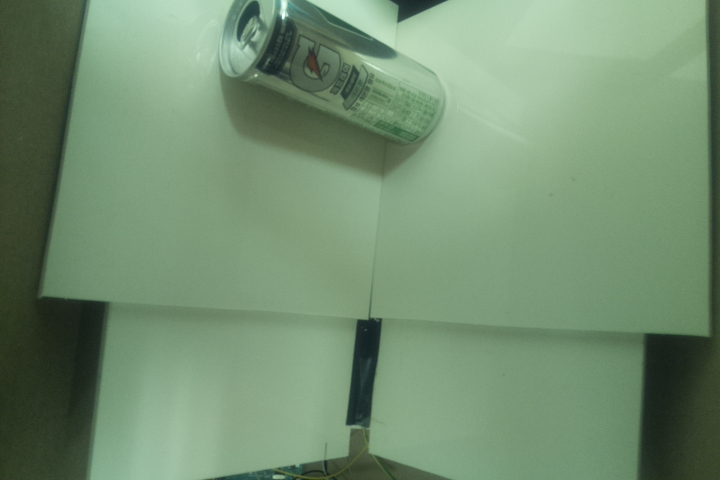can: (217, 1, 449, 147)
